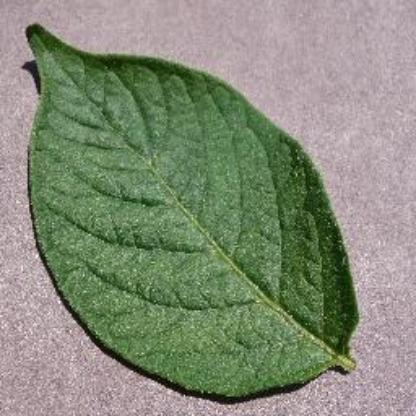Healthy-plant: (19, 16, 363, 400)
